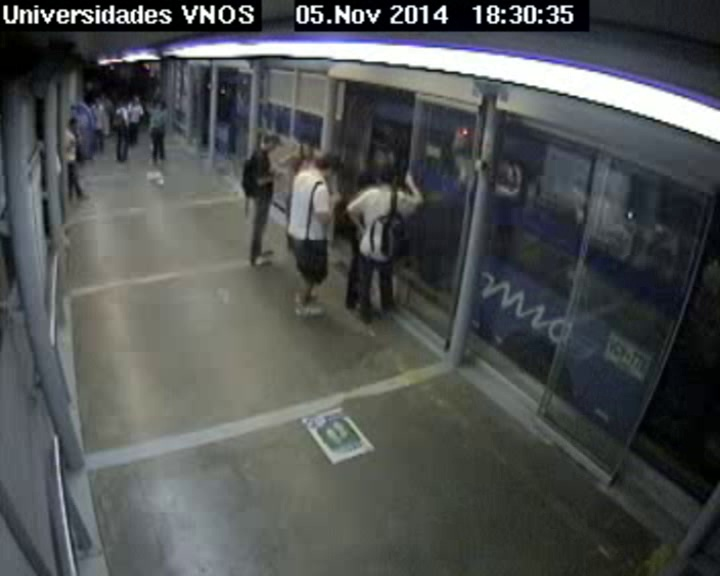person: (316, 154, 336, 176), (262, 132, 280, 153), (357, 173, 374, 193), (300, 137, 317, 154), (379, 168, 394, 184), (68, 118, 79, 130), (157, 99, 167, 110), (120, 96, 129, 106), (133, 95, 141, 104), (149, 98, 157, 107), (94, 98, 100, 105), (101, 95, 107, 101), (95, 105, 101, 111)
